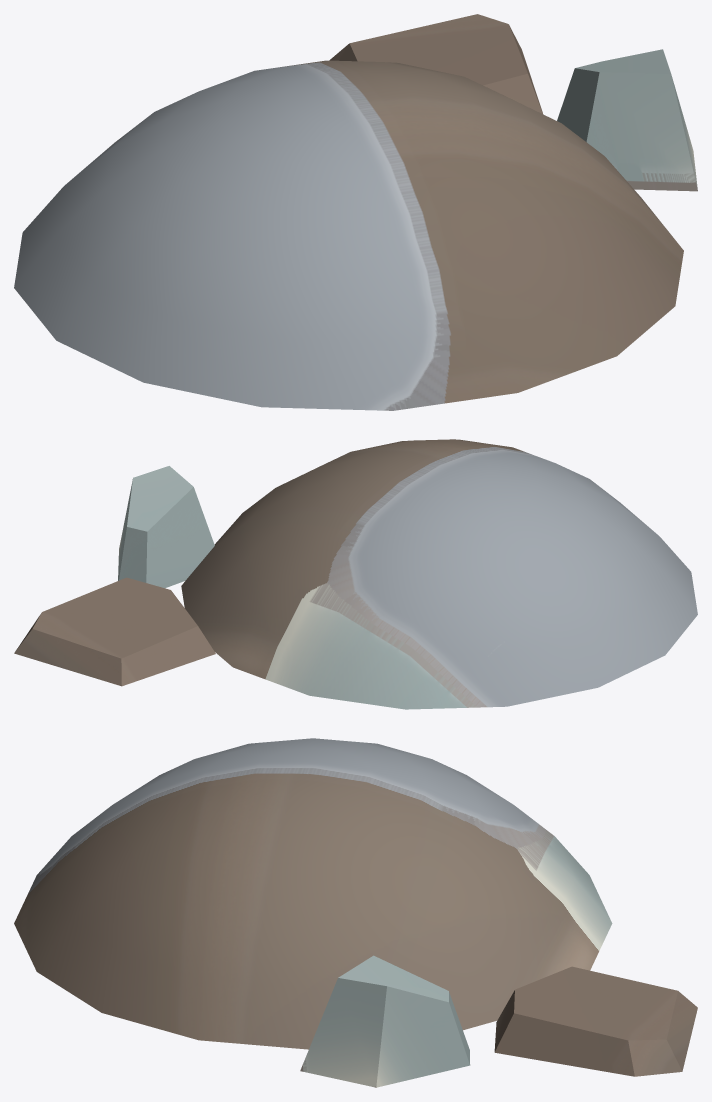
File: decor_4.fbx
3 renders of one model, top to bottom at view 1: azimuth 30°, elevation 25°; view 2: azimuth 150°, elevation 25°; view 3: azimuth 270°, elevation 25°, orthographic. The views are drawn at different scales.
Parts seen in each view (by area): view 1: Sphere; view 2: Sphere; view 3: Sphere.
Boxes of the visible parts, <box> form: Sphere: <box>14,14,697,410</box>; Sphere: <box>14,439,697,709</box>; Sphere: <box>14,738,697,1087</box>.
Size of the model in its own units: 2.29 by 0.5703 by 2.28.
